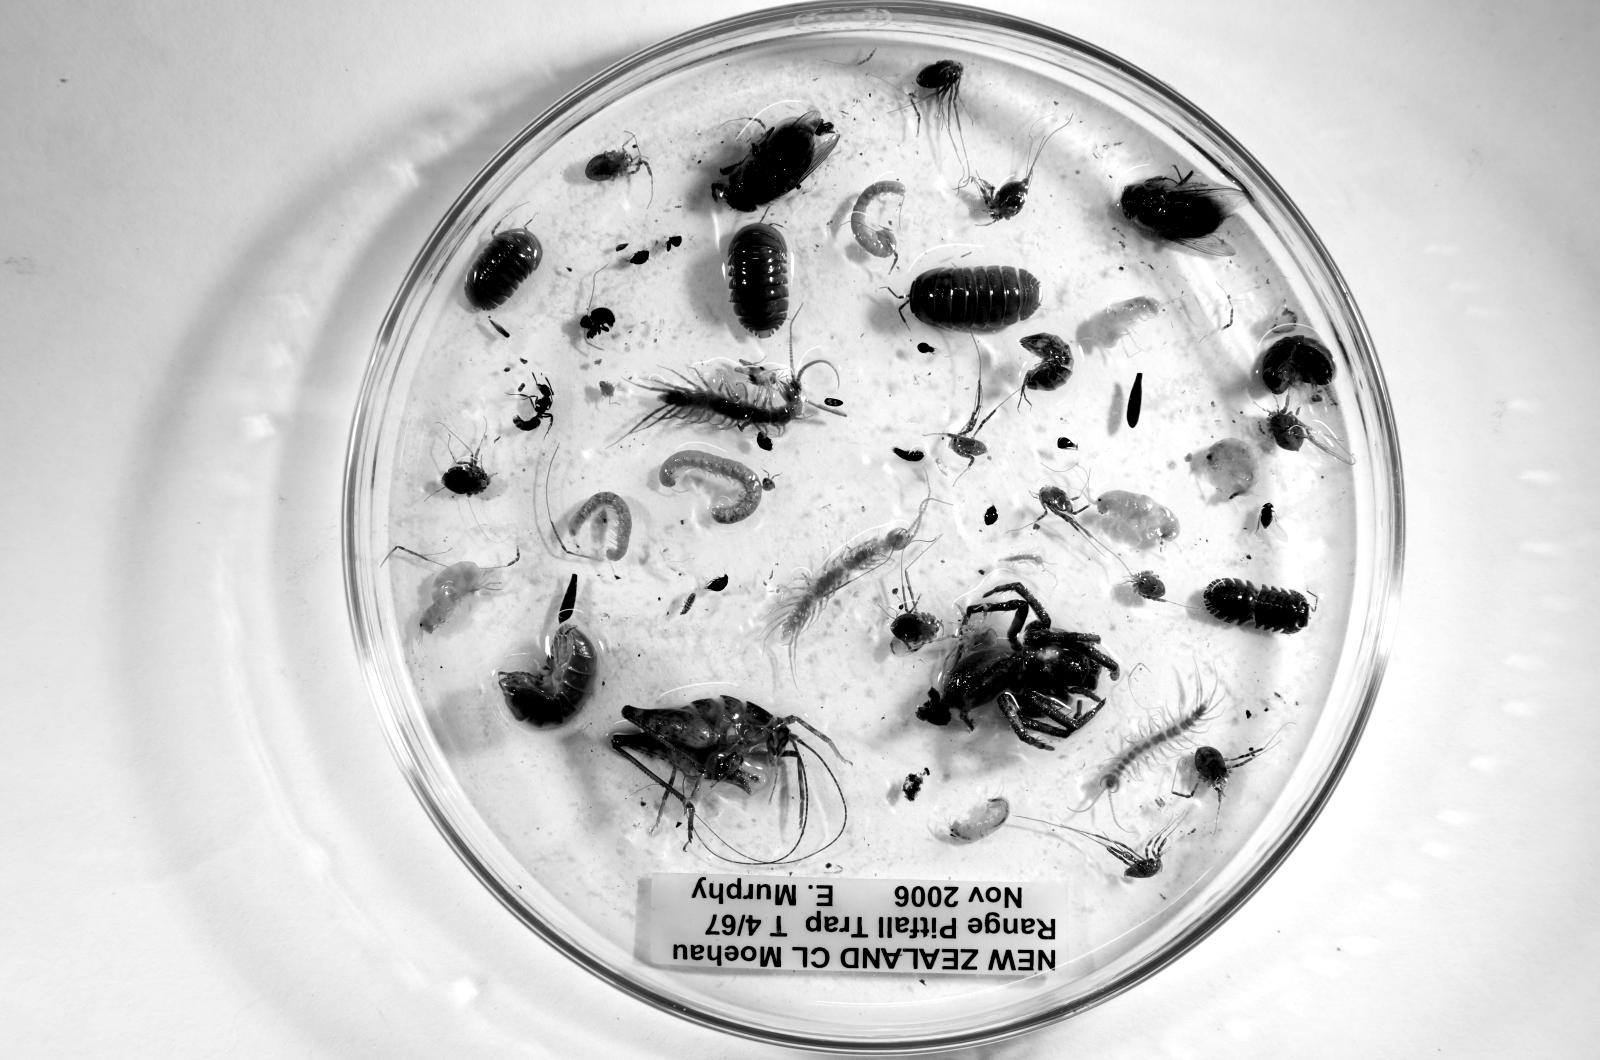amphipoda: (420, 561, 489, 634), (1095, 490, 1180, 541), (1092, 296, 1160, 348), (1205, 438, 1258, 499), (948, 795, 1009, 842)
araneae: (941, 583, 1119, 748)
chilopoda: (763, 498, 930, 675), (1069, 667, 1226, 812), (626, 359, 847, 437)
coleoptera: (580, 307, 615, 340), (705, 576, 728, 592), (629, 249, 651, 265), (984, 505, 999, 526), (757, 432, 773, 450)
diplopoda: (659, 450, 764, 524), (851, 180, 905, 273), (568, 492, 632, 561)
diptera: (713, 110, 837, 211), (1119, 170, 1244, 255), (1258, 502, 1287, 542)
formicidae: (513, 374, 554, 431)
isopoda: (497, 625, 597, 728), (908, 266, 1039, 331), (724, 223, 789, 337), (465, 229, 542, 310), (1203, 578, 1313, 634), (1258, 335, 1335, 394), (1019, 333, 1074, 390)
opiliones: (1051, 824, 1172, 879), (943, 377, 999, 467), (1194, 746, 1267, 806), (1036, 486, 1092, 538), (916, 60, 964, 112), (978, 175, 1030, 221), (442, 448, 491, 496), (891, 610, 943, 654), (585, 147, 648, 182), (1267, 407, 1311, 451), (1130, 570, 1165, 601)
orthoptera: (613, 695, 848, 844)
